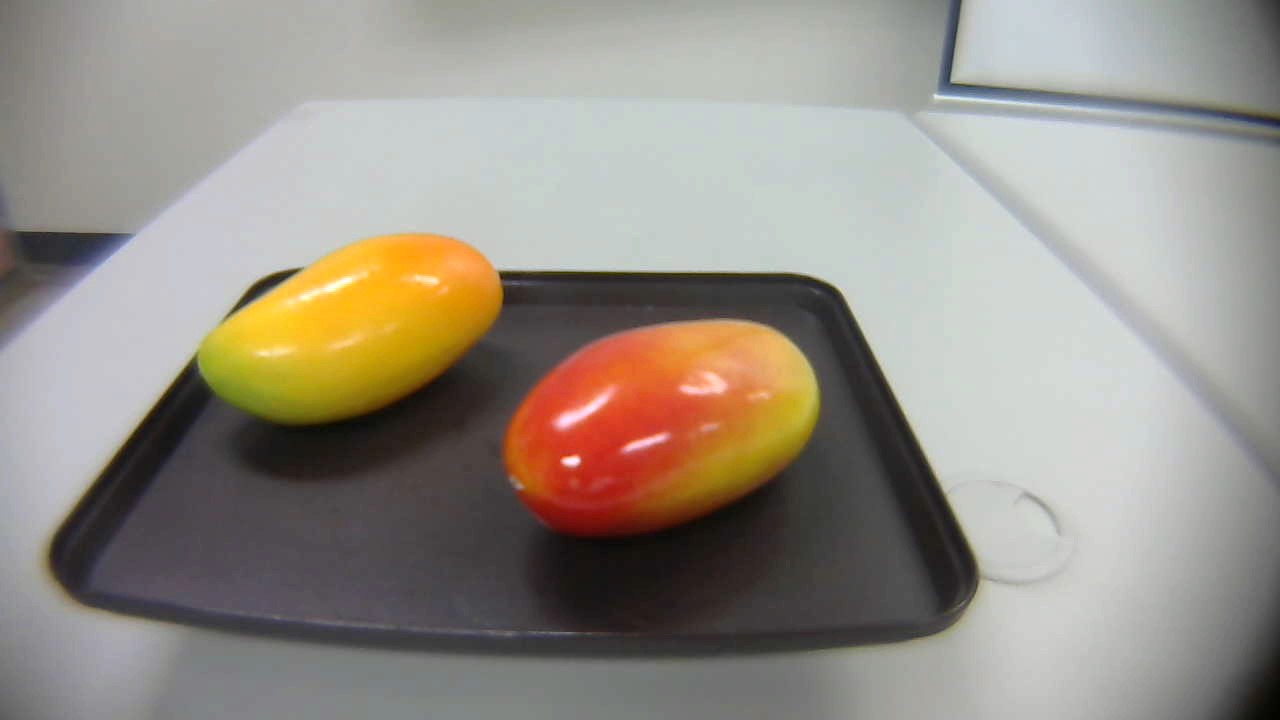red mango: (491, 318, 836, 537)
yellow mango: (186, 232, 514, 430)
